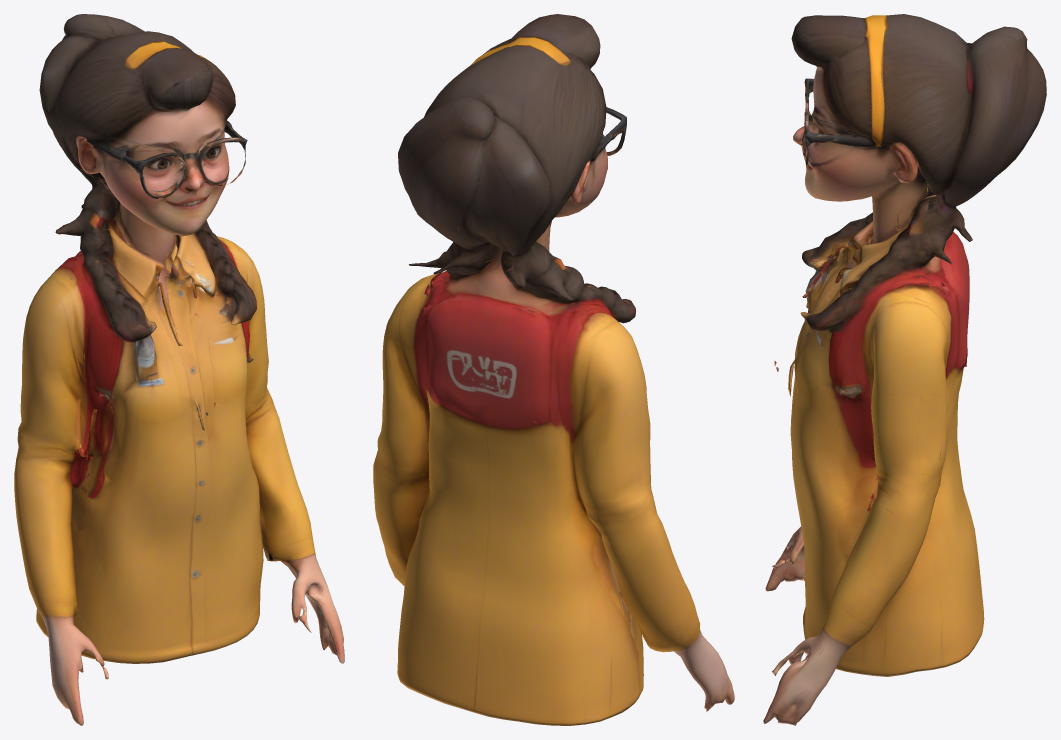
Rendered from asis.glb.
3 views of the same model, side by side, from view 1: azimuth 30°, elevation 25°; view 2: azimuth 150°, elevation 25°; view 3: azimuth 270°, elevation 25° (orthographic). The views are drawn at different scales.
Bounding box in the file's own units: 0.9441 × 1.98 × 0.7967.
1 material, 1 textured.
